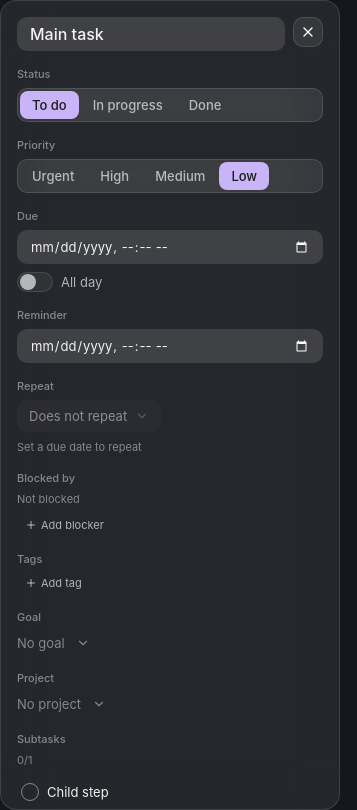
Test case: TaskDetailPanel: blocked by › says so when nothing matches
Check: the field named "Title" is shown, box [17,17,285,51]
Click the button "Add blocker": (64, 525) [17,515,112,535]
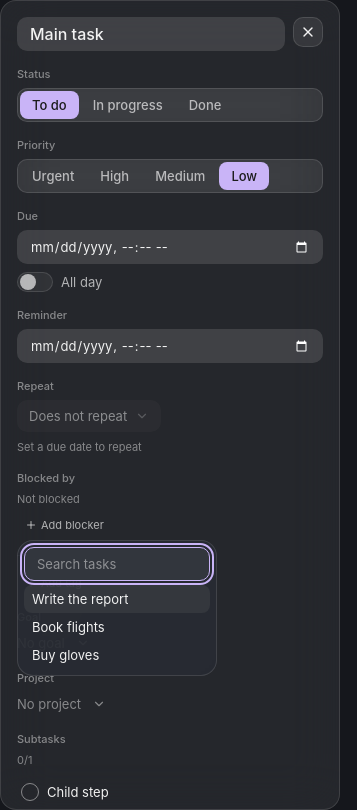
In the field labelled "Search tasks": (117, 564) [24,547,210,581], type "zzz"
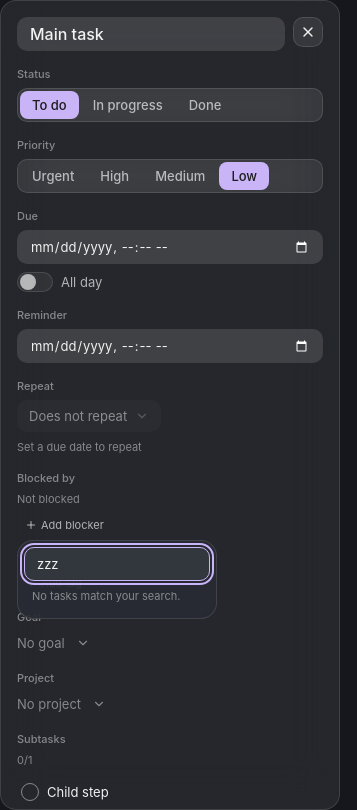
Check: the message reads "No tasks match your search.", box [32,589,180,603]
